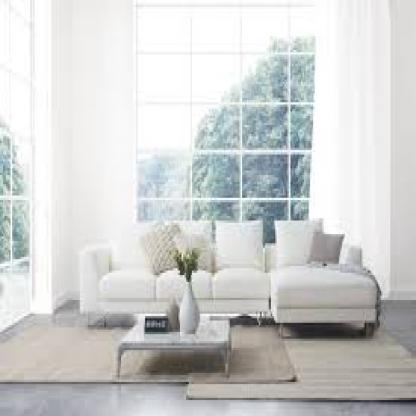sofa: (78, 218, 382, 339)
